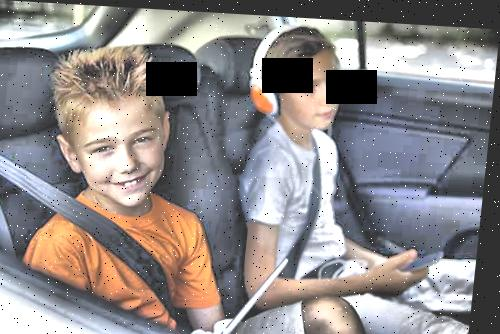seatbelt: (0, 143, 211, 322), (272, 120, 333, 292)
